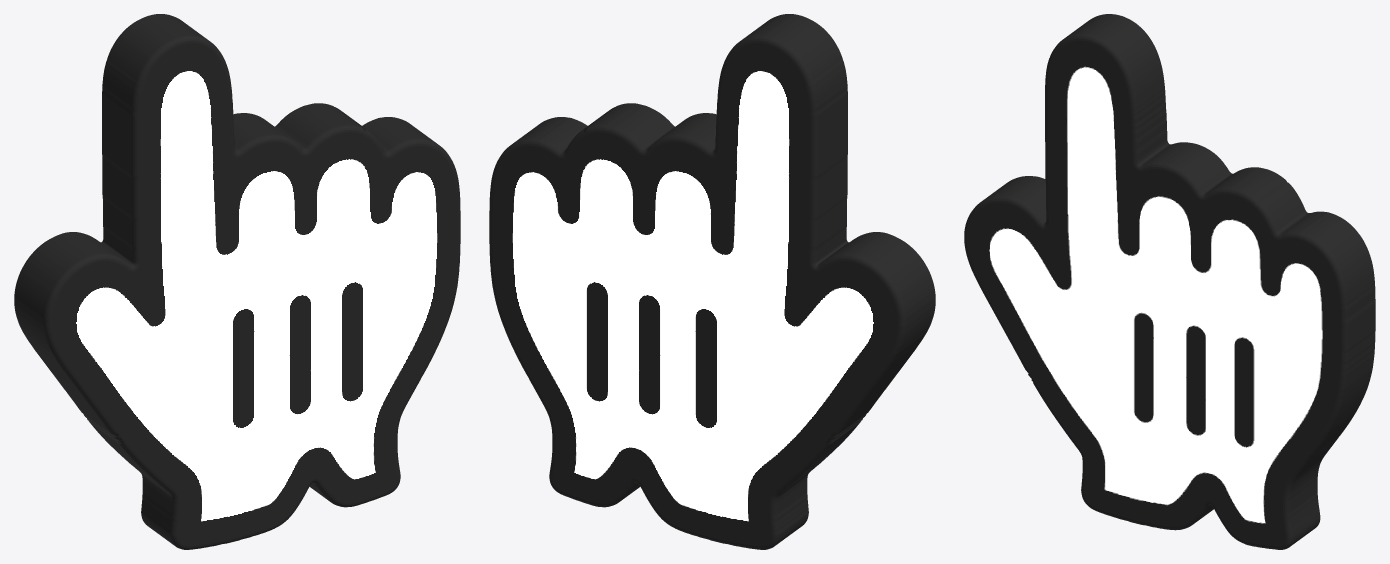
Rendered from Cursor.glb.
3 renders of one model, left to right at view 1: azimuth 30°, elevation 25°; view 2: azimuth 150°, elevation 25°; view 3: azimuth 330°, elevation 25°, orthographic. The views are drawn at different scales.
Parts seen in each view (by area): view 1: cursor_hand; view 2: cursor_hand; view 3: cursor_hand.
Part boxes in pixels (bbox=[...]): cursor_hand: bbox=[14, 14, 460, 549]; cursor_hand: bbox=[489, 14, 935, 549]; cursor_hand: bbox=[964, 14, 1375, 549].
Size of the model in its own units: 0.1996 by 0.237 by 0.0287.
Materials: 1 (1 with a texture image).
